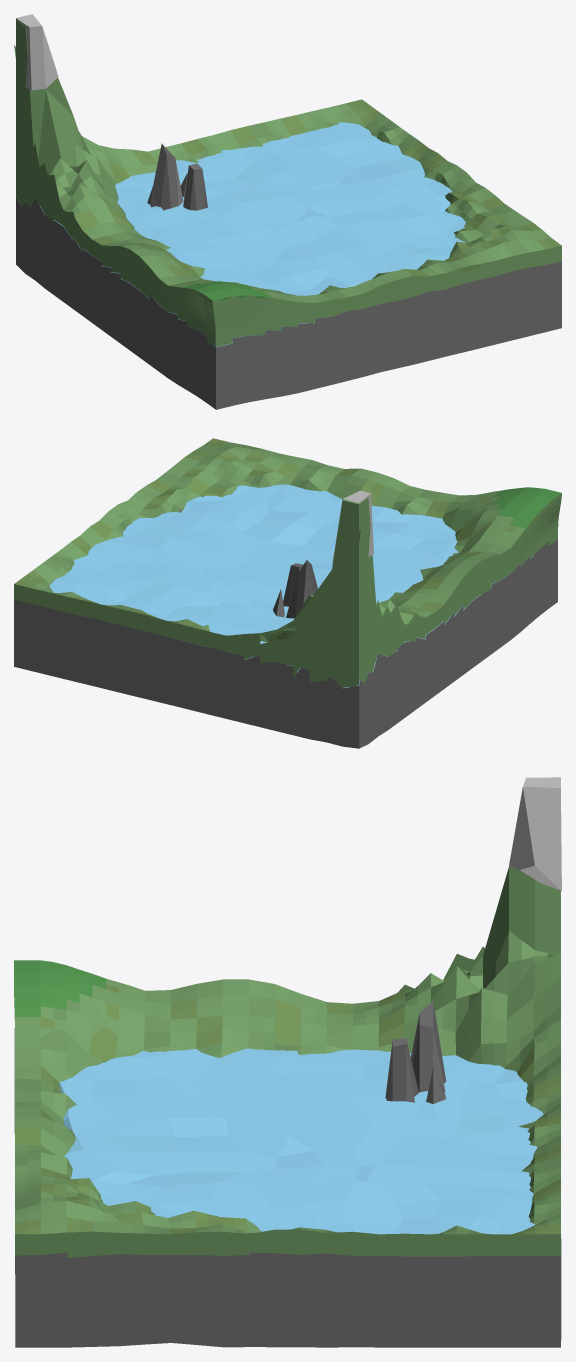
File: Ground.fbx
The picture shows the model from 3 angles, top to bottom: view 1: azimuth 30°, elevation 25°; view 2: azimuth 150°, elevation 25°; view 3: azimuth 270°, elevation 25°; orthographic projection. The views are drawn at different scales.
Parts seen in each view (by area): view 1: under, water, ground, Part, mountUnder, mount(, groundPart2, snow, ground.002; view 2: under, water, ground, Part, mountUnder, groundPart2, mount(, ground.002, snow; view 3: water, ground, under, Part, groundPart2, snow, ground.002, mountUnder, mount(.
Boxes of the visible parts, <box> form: under: <box>16,143,561,409</box>; water: <box>40,122,465,347</box>; ground: <box>16,103,561,347</box>; Part: <box>74,99,561,291</box>; mountUnder: <box>16,20,73,159</box>; mount(: <box>14,45,76,175</box>; groundPart2: <box>97,120,528,326</box>; snow: <box>16,14,58,90</box>; ground.002: <box>183,281,272,300</box>; under: <box>14,509,557,748</box>; water: <box>49,484,533,688</box>; ground: <box>14,442,561,687</box>; Part: <box>14,438,516,641</box>; mountUnder: <box>326,497,377,627</box>; groundPart2: <box>43,445,559,626</box>; mount(: <box>290,529,360,642</box>; ground.002: <box>491,487,561,528</box>; snow: <box>332,490,373,565</box>; water: <box>59,1048,543,1254</box>; ground: <box>14,931,560,1257</box>; under: <box>14,1001,561,1347</box>; Part: <box>15,984,560,1234</box>; groundPart2: <box>15,995,560,1234</box>; snow: <box>509,777,561,890</box>; ground.002: <box>14,960,105,1016</box>; mountUnder: <box>509,866,560,954</box>; mount(: <box>483,867,508,988</box>.
Size of the model in its own units: 5054 by 3785 by 5020.
